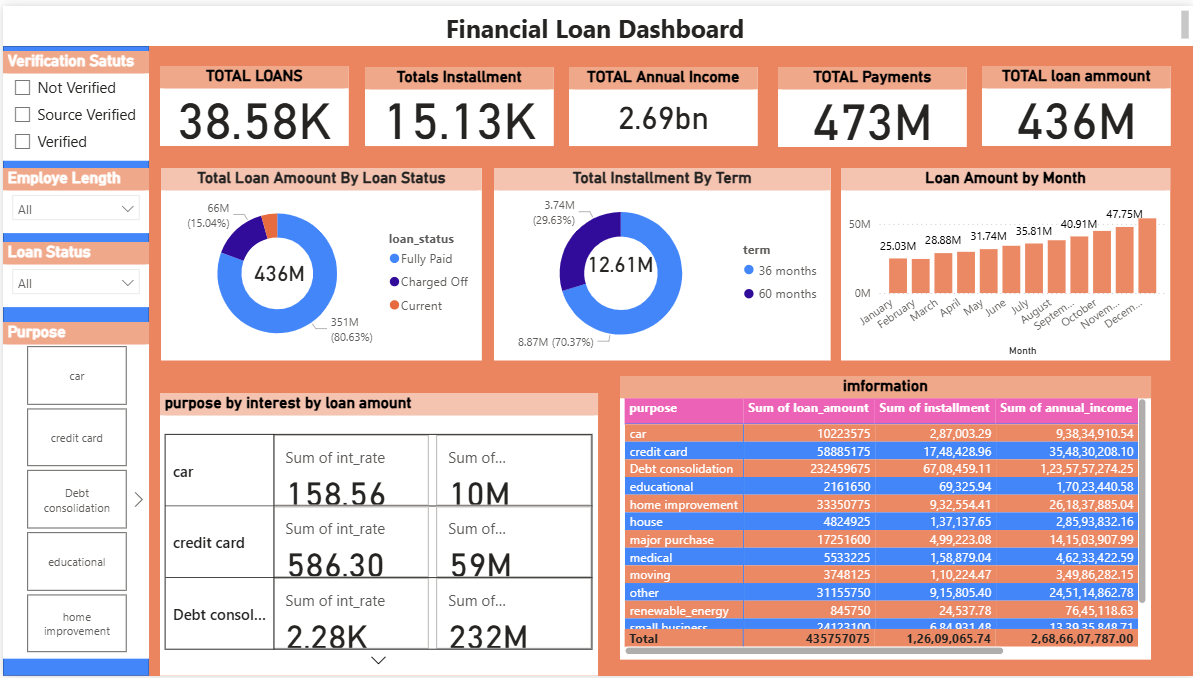

Layout of this report page (visuals, bound fields, positions):
{"tool":"powerbi","page":{"name":"Page 1","canvas":[1280,720],"ordinal":0},"visuals":[{"type":"textbox","box":[0,0,1280.2,42.9],"z":0},{"type":"shape","box":[0,42.7,157.1,677.4],"z":1000},{"type":"card","title":"TOTAL LOANS","fields":{"Values":["CountNonNull(financial_loan (1) 3.id)"]},"box":[169,64.5,202.8,86.1],"z":2000},{"type":"card","title":"TOTAL Payments","fields":{"Values":["Sum(financial_loan (1) 3.total_payment)"]},"box":[832.8,66.1,202.8,86.1],"z":3000},{"type":"card","title":"TOTAL Annual Income","fields":{"Values":["Sum(financial_loan (1) 3.annual_income)"]},"box":[608.5,66.1,202.8,84.5],"z":4000},{"type":"card","title":"Totals Installment","fields":{"Values":["Count(financial_loan (1) 3.installment)"]},"box":[388.8,66.1,202.8,84.5],"z":5000},{"type":"card","title":"TOTAL loan ammount","fields":{"Values":["Sum(financial_loan (1) 3.loan_amount)"]},"box":[1052.6,64.5,202.8,86.1],"z":6000},{"type":"donutChart","title":"Total Loan Amoount By Loan Status","fields":{"Y":["Sum(financial_loan (1) 3.loan_amount)"],"Category":["financial_loan (1) 3.loan_status"]},"box":[169.9,173.8,345,207.5],"z":7000},{"type":"card","fields":{"Values":["Sum(financial_loan (1) 3.loan_amount)"]},"box":[251.6,254.2,90.8,66.1],"z":8000},{"type":"donutChart","title":"Total Installment By Term","fields":{"Category":["financial_loan (1) 3.term"],"Y":["Sum(financial_loan (1) 3.installment)"]},"box":[527.8,173.8,361.8,207.5],"z":9000},{"type":"card","fields":{"Values":["Sum(financial_loan (1) 3.installment)"]},"box":[618.6,243.8,90.8,66.1],"z":10000},{"type":"columnChart","title":"Loan Amount by Month","fields":{"Y":["Sum(financial_loan (1) 3.loan_amount)"],"Category":["financial_loan (1) 3.issue_date.Variation.Date Hierarchy.Month"]},"box":[901.3,173.8,354,207.5],"z":11000},{"type":"cardVisual","title":"purpose by interest by loan amount","fields":{"Rows":["financial_loan (1) 3.purpose"],"Data":["Sum(financial_loan (1) 3.int_rate)","Sum(financial_loan (1) 3.loan_amount)"]},"box":[169.3,416,470.9,304],"z":12000},{"type":"pivotTable","title":"imformation","fields":{"Rows":["financial_loan (1) 3.purpose"],"Values":["Sum(financial_loan (1) 3.loan_amount)","Sum(financial_loan (1) 3.installment)","Sum(financial_loan (1) 3.annual_income)","Sum(financial_loan (1) 3.total_payment)"]},"box":[664,398.1,571,305.2],"z":13000},{"type":"slicer","title":"Verification Satuts","fields":{"Values":["financial_loan (1) 3.verification_status"]},"box":[0,48.3,157,118.1],"z":14000},{"type":"slicer","title":"Employe Length","fields":{"Values":["financial_loan (1) 3.emp_length"]},"box":[0,174.4,157,69.8],"z":15000},{"type":"slicer","title":"Loan Status","fields":{"Values":["financial_loan (1) 3.loan_status"]},"box":[0,253.6,157,69.8],"z":16000},{"type":"slicer","title":"Purpose","fields":{"Values":["financial_loan (1) 3.purpose"]},"box":[0,339.5,157,362.3],"z":17000}]}

Visuals, with their boxes in screenshot pixels (x1, y1, x2, y2), scaled from the page's 1280x720 canvas onto the 1193x678 screenshot:
textbox: {"x1": 0, "y1": 0, "x2": 1192, "y2": 40}
shape: {"x1": 0, "y1": 40, "x2": 146, "y2": 677}
"TOTAL LOANS" card: {"x1": 158, "y1": 61, "x2": 347, "y2": 142}
"TOTAL Payments" card: {"x1": 776, "y1": 62, "x2": 965, "y2": 143}
"TOTAL Annual Income" card: {"x1": 567, "y1": 62, "x2": 756, "y2": 142}
"Totals Installment" card: {"x1": 362, "y1": 62, "x2": 551, "y2": 142}
"TOTAL loan ammount" card: {"x1": 981, "y1": 61, "x2": 1170, "y2": 142}
"Total Loan Amoount By Loan Status" donutChart: {"x1": 158, "y1": 164, "x2": 480, "y2": 359}
card - Sum(financial_loan (1) 3.loan_amount): {"x1": 234, "y1": 239, "x2": 319, "y2": 302}
"Total Installment By Term" donutChart: {"x1": 492, "y1": 164, "x2": 829, "y2": 359}
card - Sum(financial_loan (1) 3.installment): {"x1": 577, "y1": 230, "x2": 661, "y2": 292}
"Loan Amount by Month" columnChart: {"x1": 840, "y1": 164, "x2": 1170, "y2": 359}
"purpose by interest by loan amount" cardVisual: {"x1": 158, "y1": 392, "x2": 597, "y2": 677}
"imformation" pivotTable: {"x1": 619, "y1": 375, "x2": 1151, "y2": 662}
"Verification Satuts" slicer: {"x1": 0, "y1": 45, "x2": 146, "y2": 157}
"Employe Length" slicer: {"x1": 0, "y1": 164, "x2": 146, "y2": 230}
"Loan Status" slicer: {"x1": 0, "y1": 239, "x2": 146, "y2": 305}
"Purpose" slicer: {"x1": 0, "y1": 320, "x2": 146, "y2": 661}
